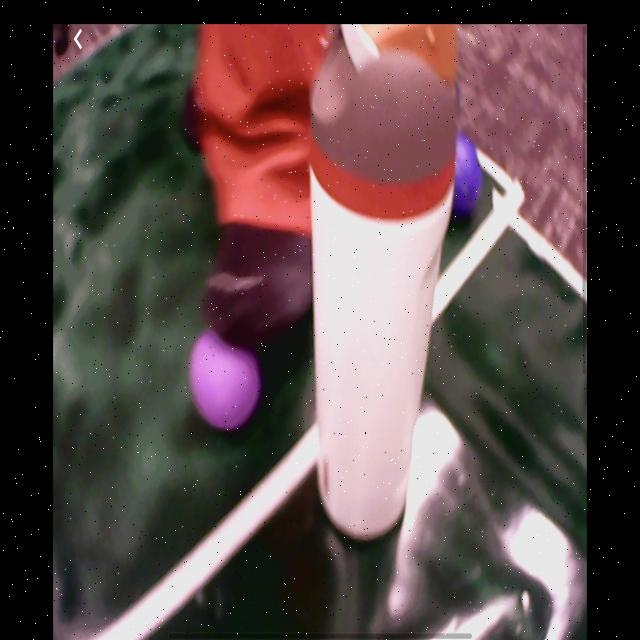ball: (191, 328, 260, 431), (450, 138, 482, 226)
